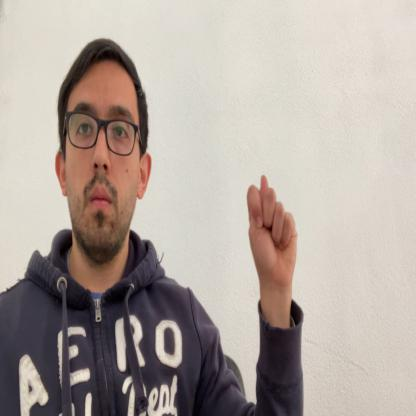T: (247, 175, 298, 287)
